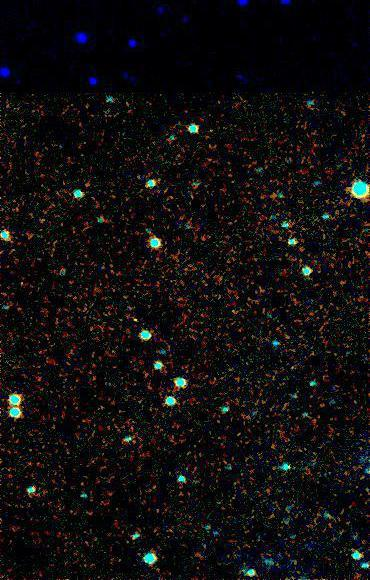star: (119, 306, 149, 336)
